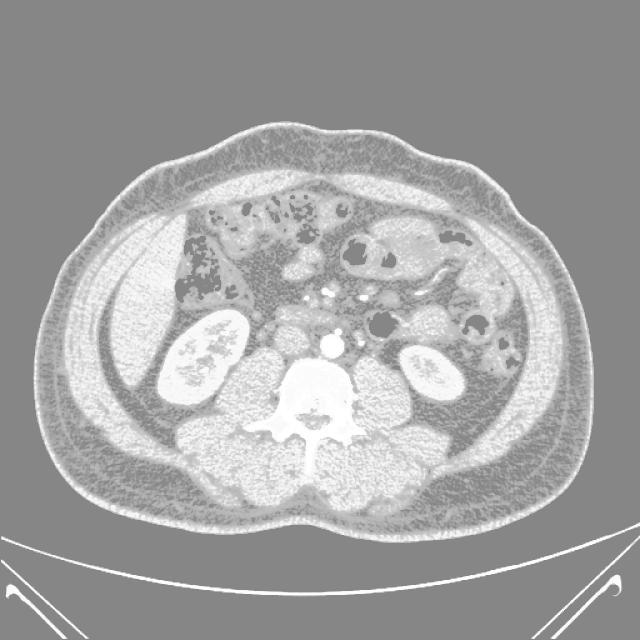NORMAL: (22, 154, 607, 527)
